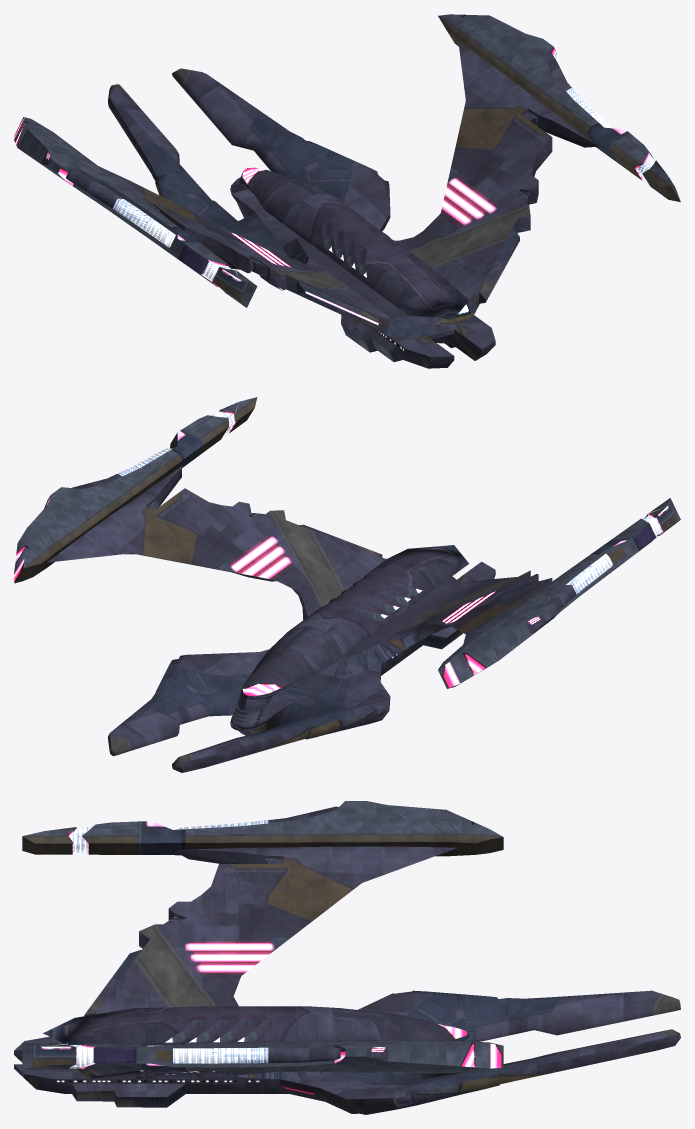
Rendered from Dom_Demolisher.fbx.
The picture shows the model from 3 angles, top to bottom: view 1: azimuth 30°, elevation 25°; view 2: azimuth 150°, elevation 25°; view 3: azimuth 270°, elevation 25°; orthographic projection. The views are drawn at different scales.
Visible parts, largest first — view 1: Dom_Demolisher; view 2: Dom_Demolisher; view 3: Dom_Demolisher.
Boxes of the visible parts, x1,y1,x2,y2 form: Dom_Demolisher: (14,14,680,368); Dom_Demolisher: (14,397,680,772); Dom_Demolisher: (14,801,680,1114).
Size of the model in its own units: 623 by 195 by 699.
1 material, 1 textured.
